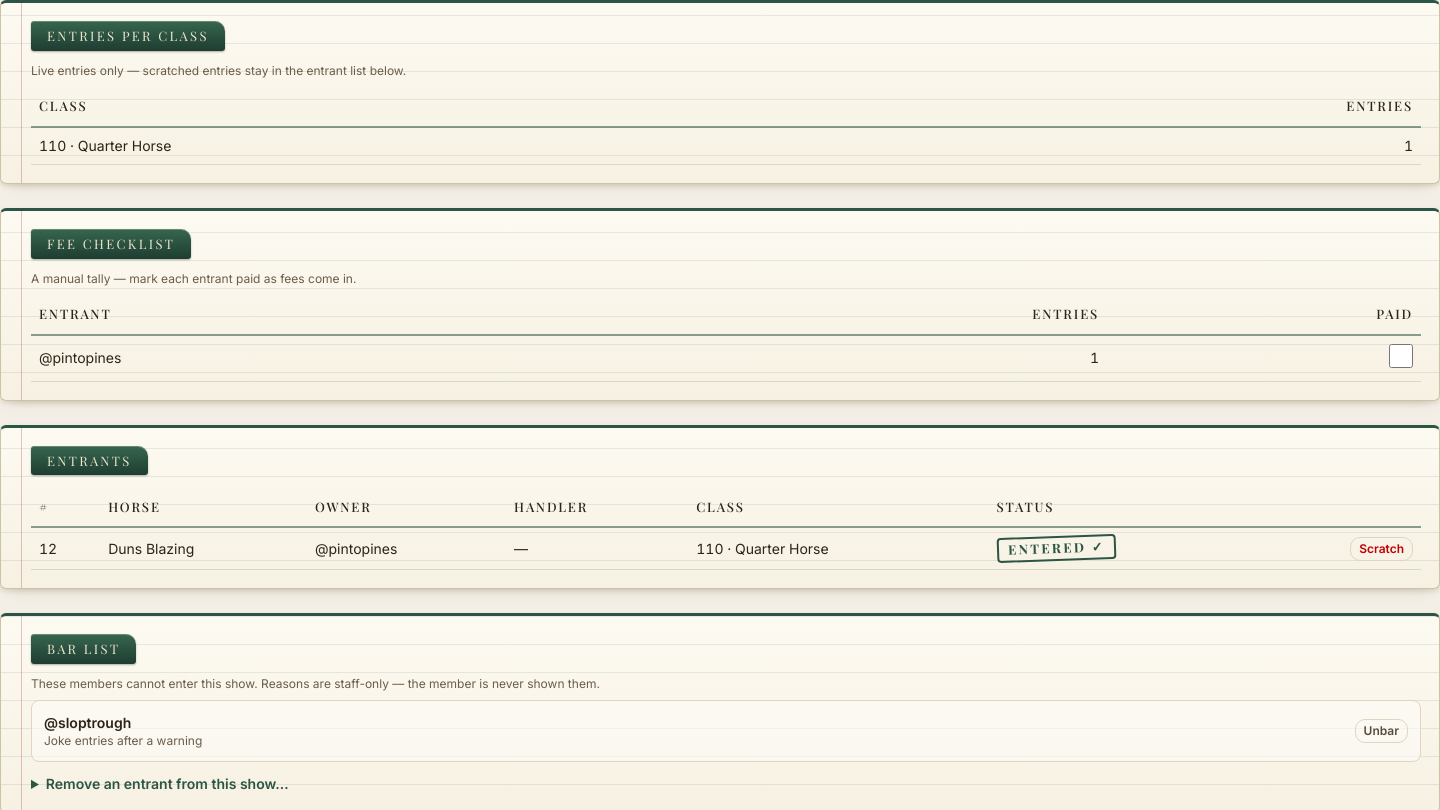
Scenario: ShowEntriesPanel — the bar list › lifts a bar and reports it
Click the button with aria-label "Unbar @sloptrough" at (1381, 731), box x1=1355 y1=719 x2=1408 y2=743
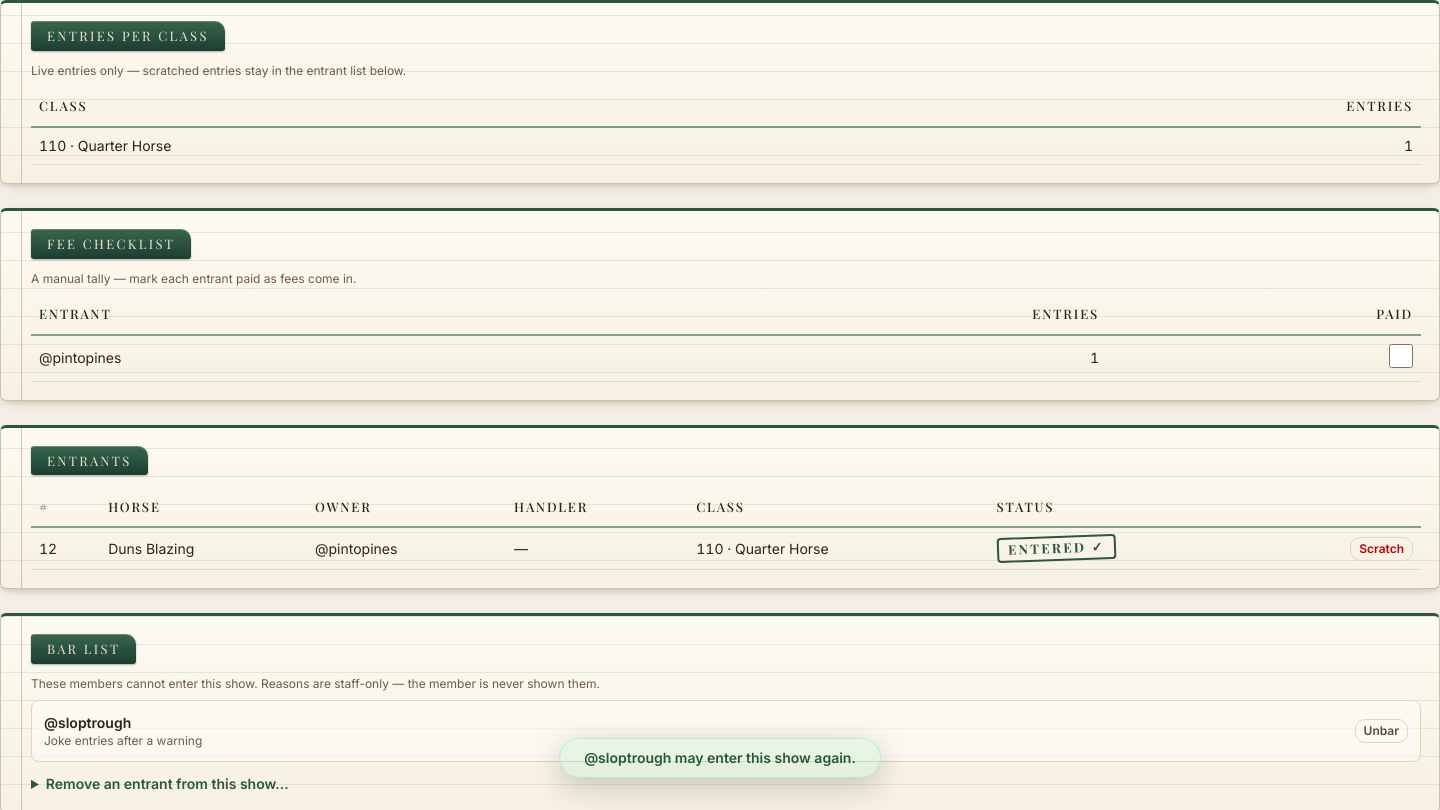
Check: the text "@sloptrough may enter this show again." is shown, box x1=559 y1=738 x2=881 y2=778
